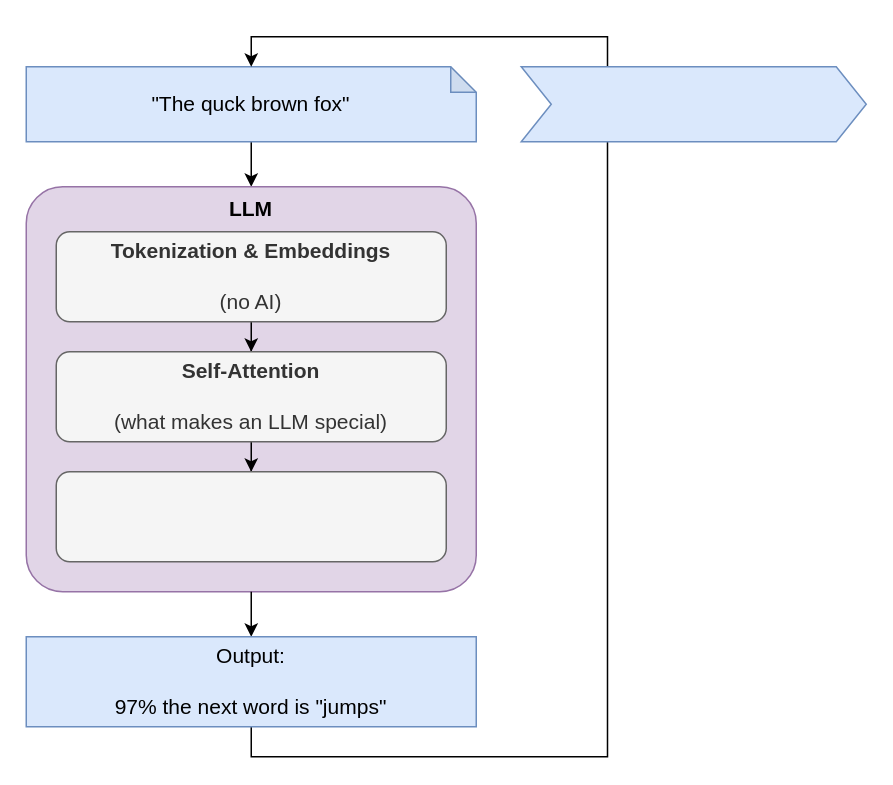
This 893x785 diagram has some shape labels left out. Each missing label, with the centre of its shape:
add token to input "The quick brown fox jumps ": the point at 693,103
Neural Net ("legacy" AI): the point at 250,516
